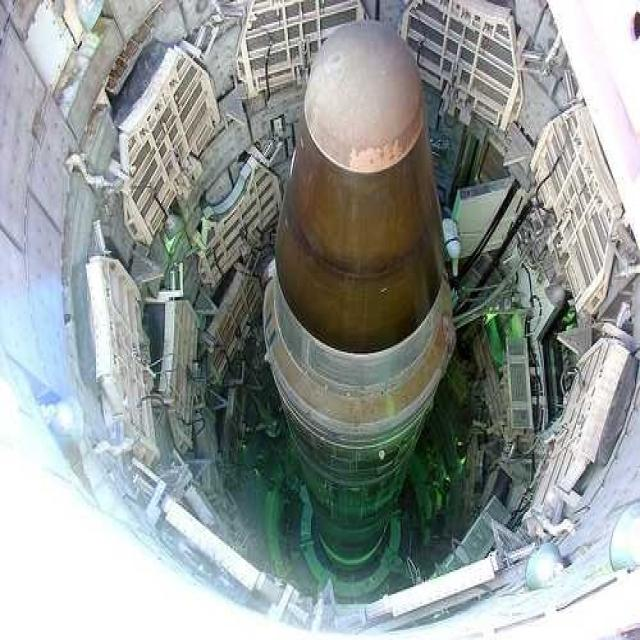missile: (259, 19, 459, 606)
